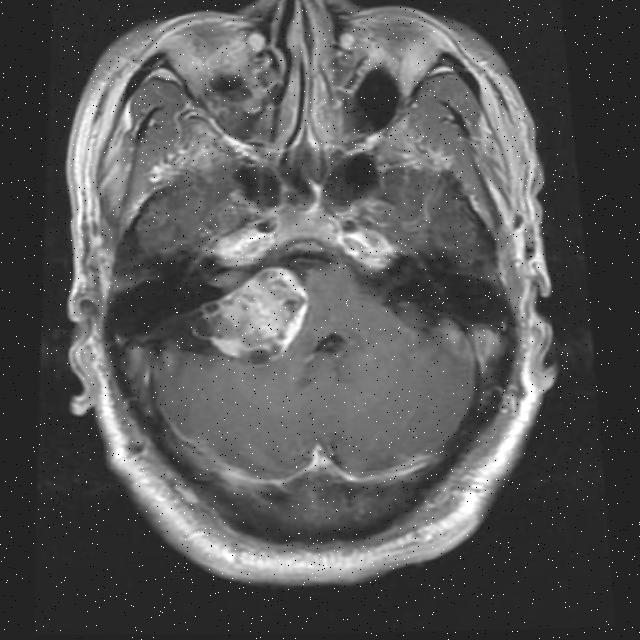Meningioma: (188, 264, 315, 368)
